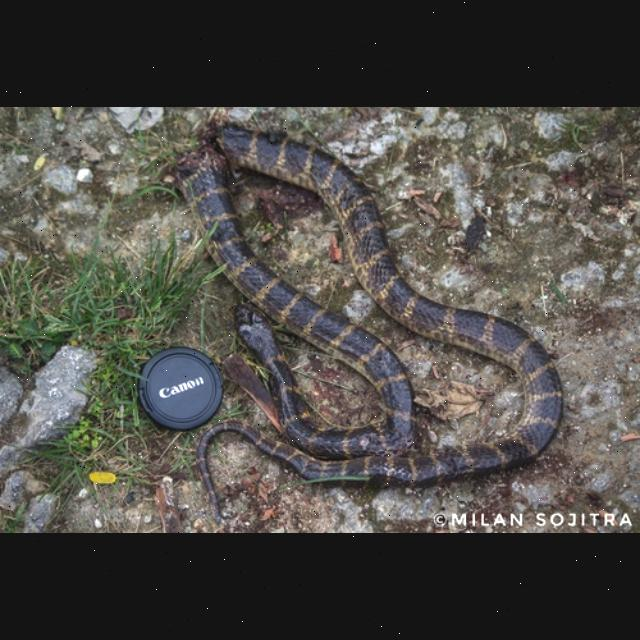snake: (184, 119, 570, 488)
